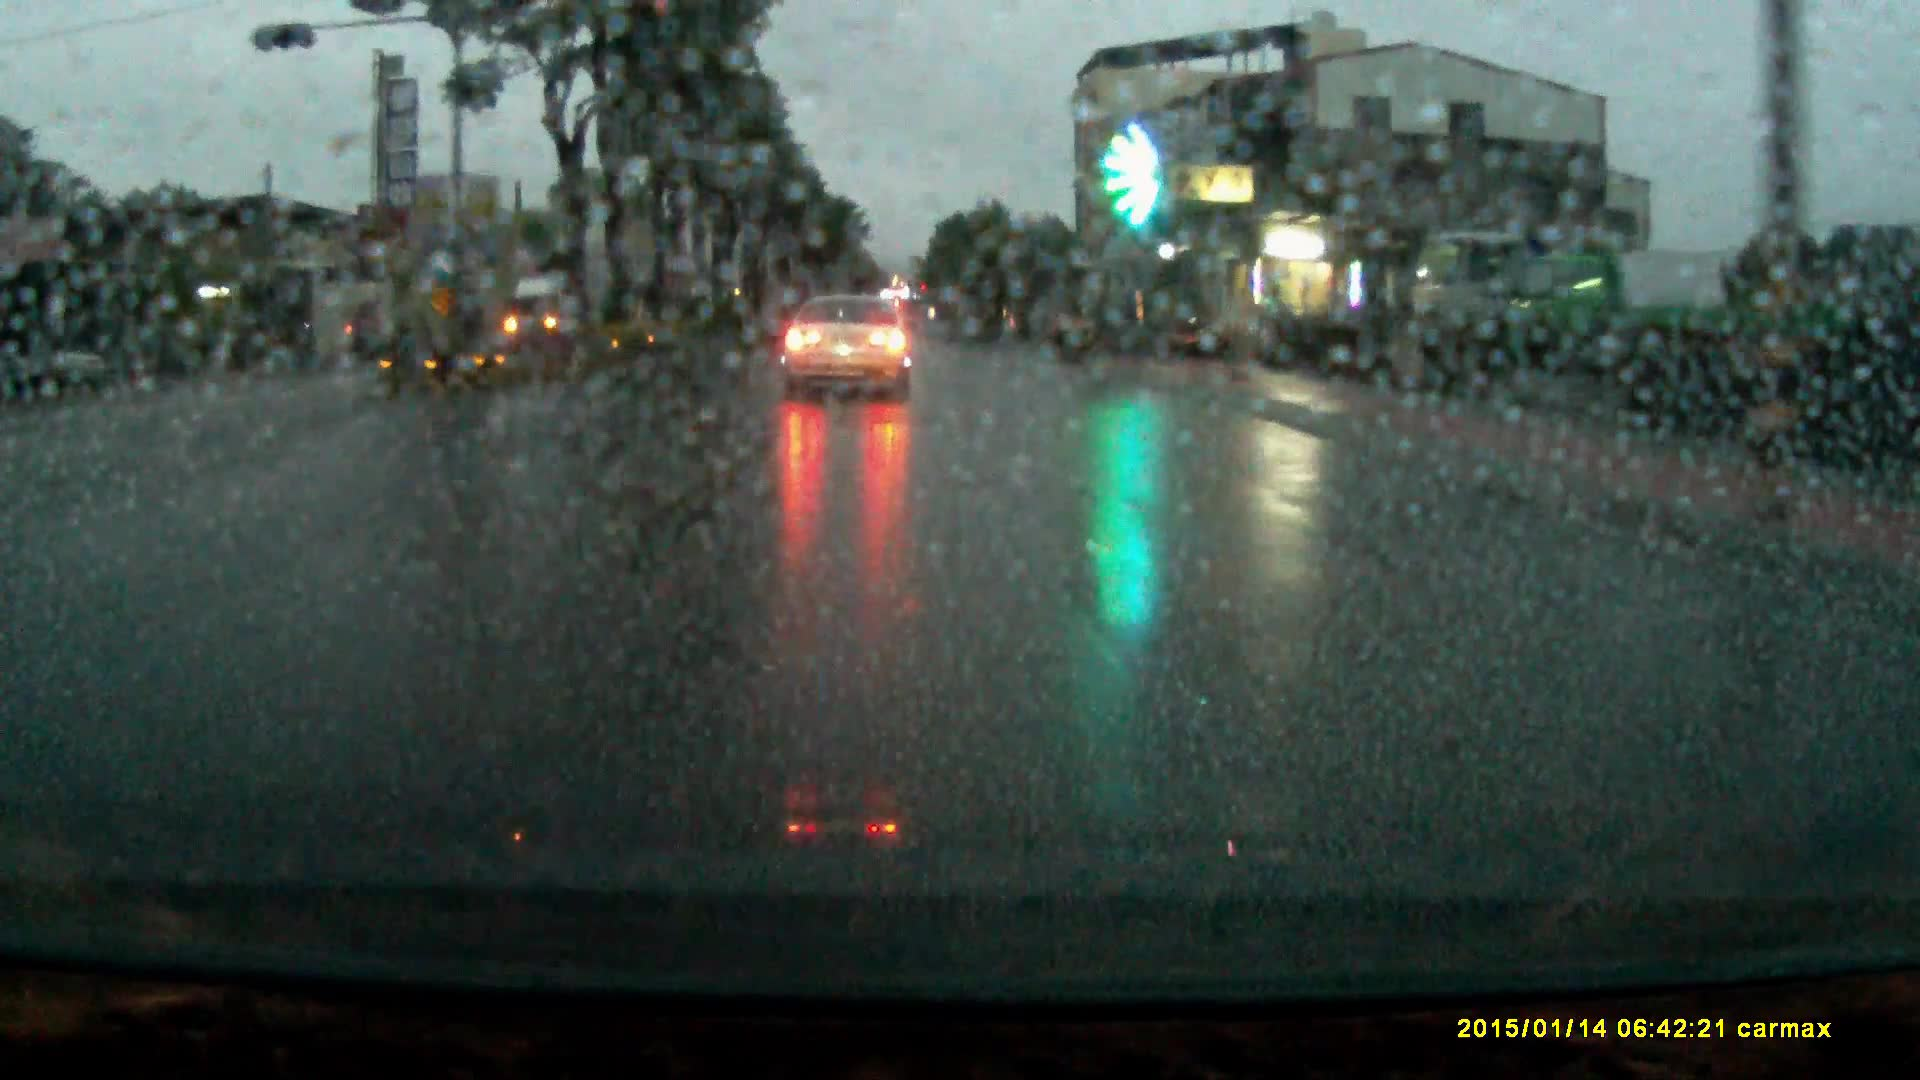vehicle: (1498, 253, 1735, 359), (1420, 229, 1532, 363), (778, 295, 915, 400), (504, 278, 583, 353)
